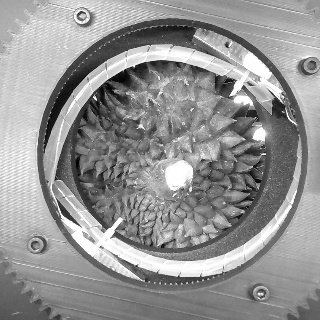base: (148, 160, 186, 202)
end: (164, 159, 194, 192)
